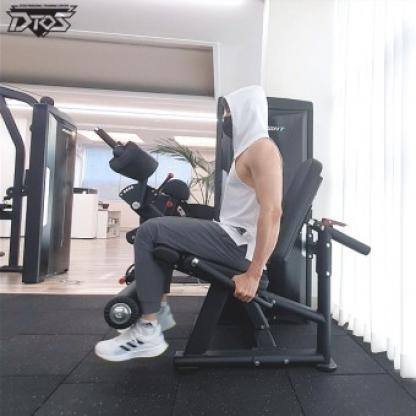leg extension: (79, 81, 381, 388)
